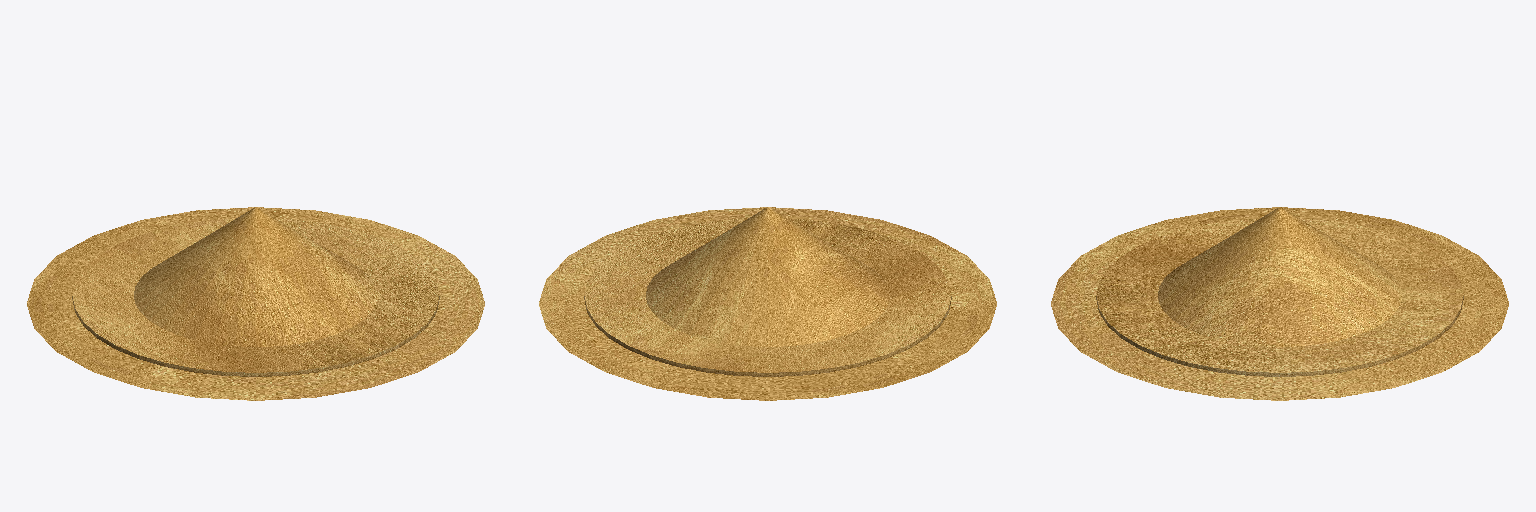
3 renders of one model, left to right at view 1: azimuth 30°, elevation 25°; view 2: azimuth 150°, elevation 25°; view 3: azimuth 270°, elevation 25°, orthographic.
Size of the model in its own units: 200 by 47.45 by 200.
Materials: 1 (1 with a texture image).